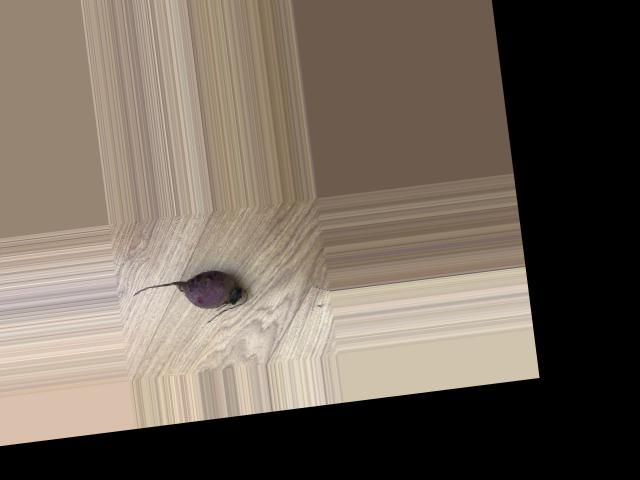beet: (130, 266, 249, 331)
